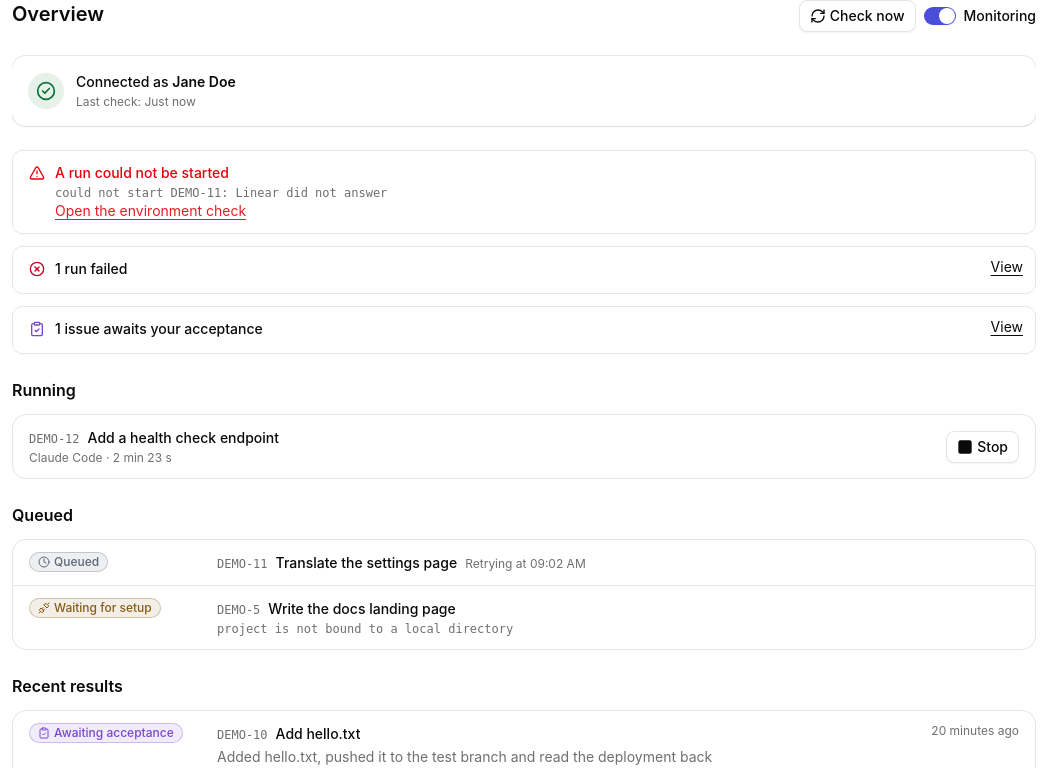
Test: the reminders lead to where the matter is dealt with
Click the link "View" in the row of "1 run failed": (1007, 266) [991, 258, 1023, 275]
(page scrolled)
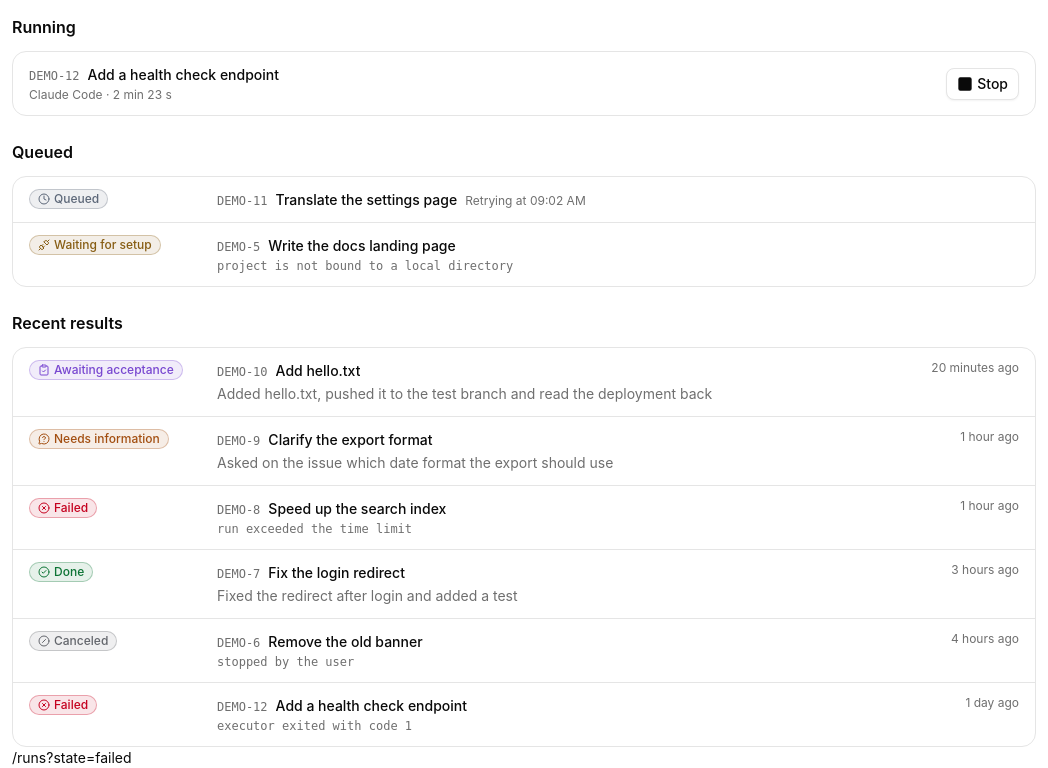
Result: the text with test id "where" reads "/runs?state=failed" at [12, 749, 132, 766]
